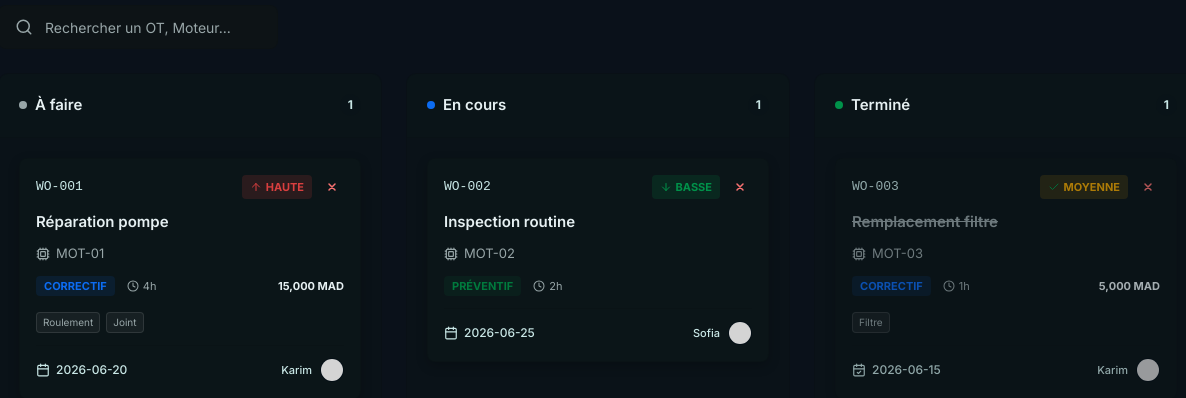
Scenario: KanbanBoard › filters tasks by search query
Step 1. Type "WO-001" into the field with placeholder "Rechercher un OT, Moteur..." → [153, 27], box [45, 16, 261, 38]
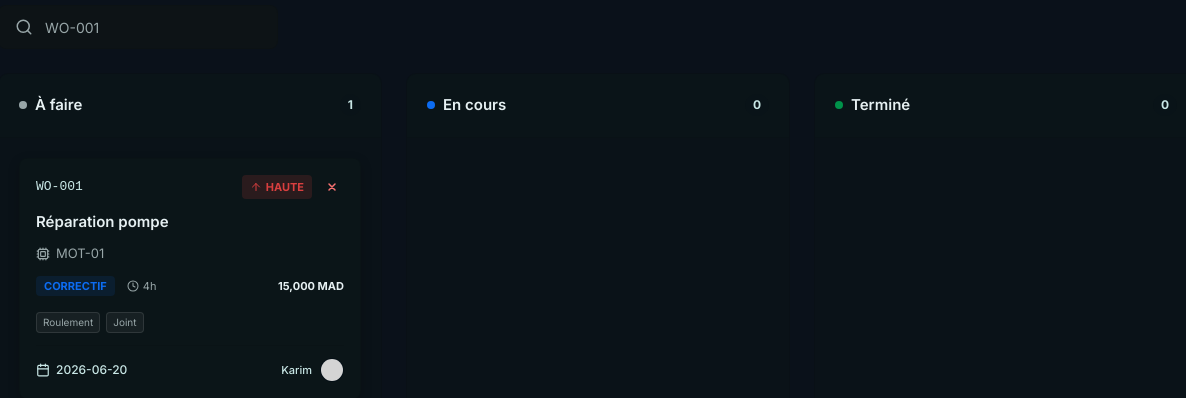
Expected: the text "WO-001" is shown, [36, 177, 83, 196]
Result: the text "WO-002" is gone
